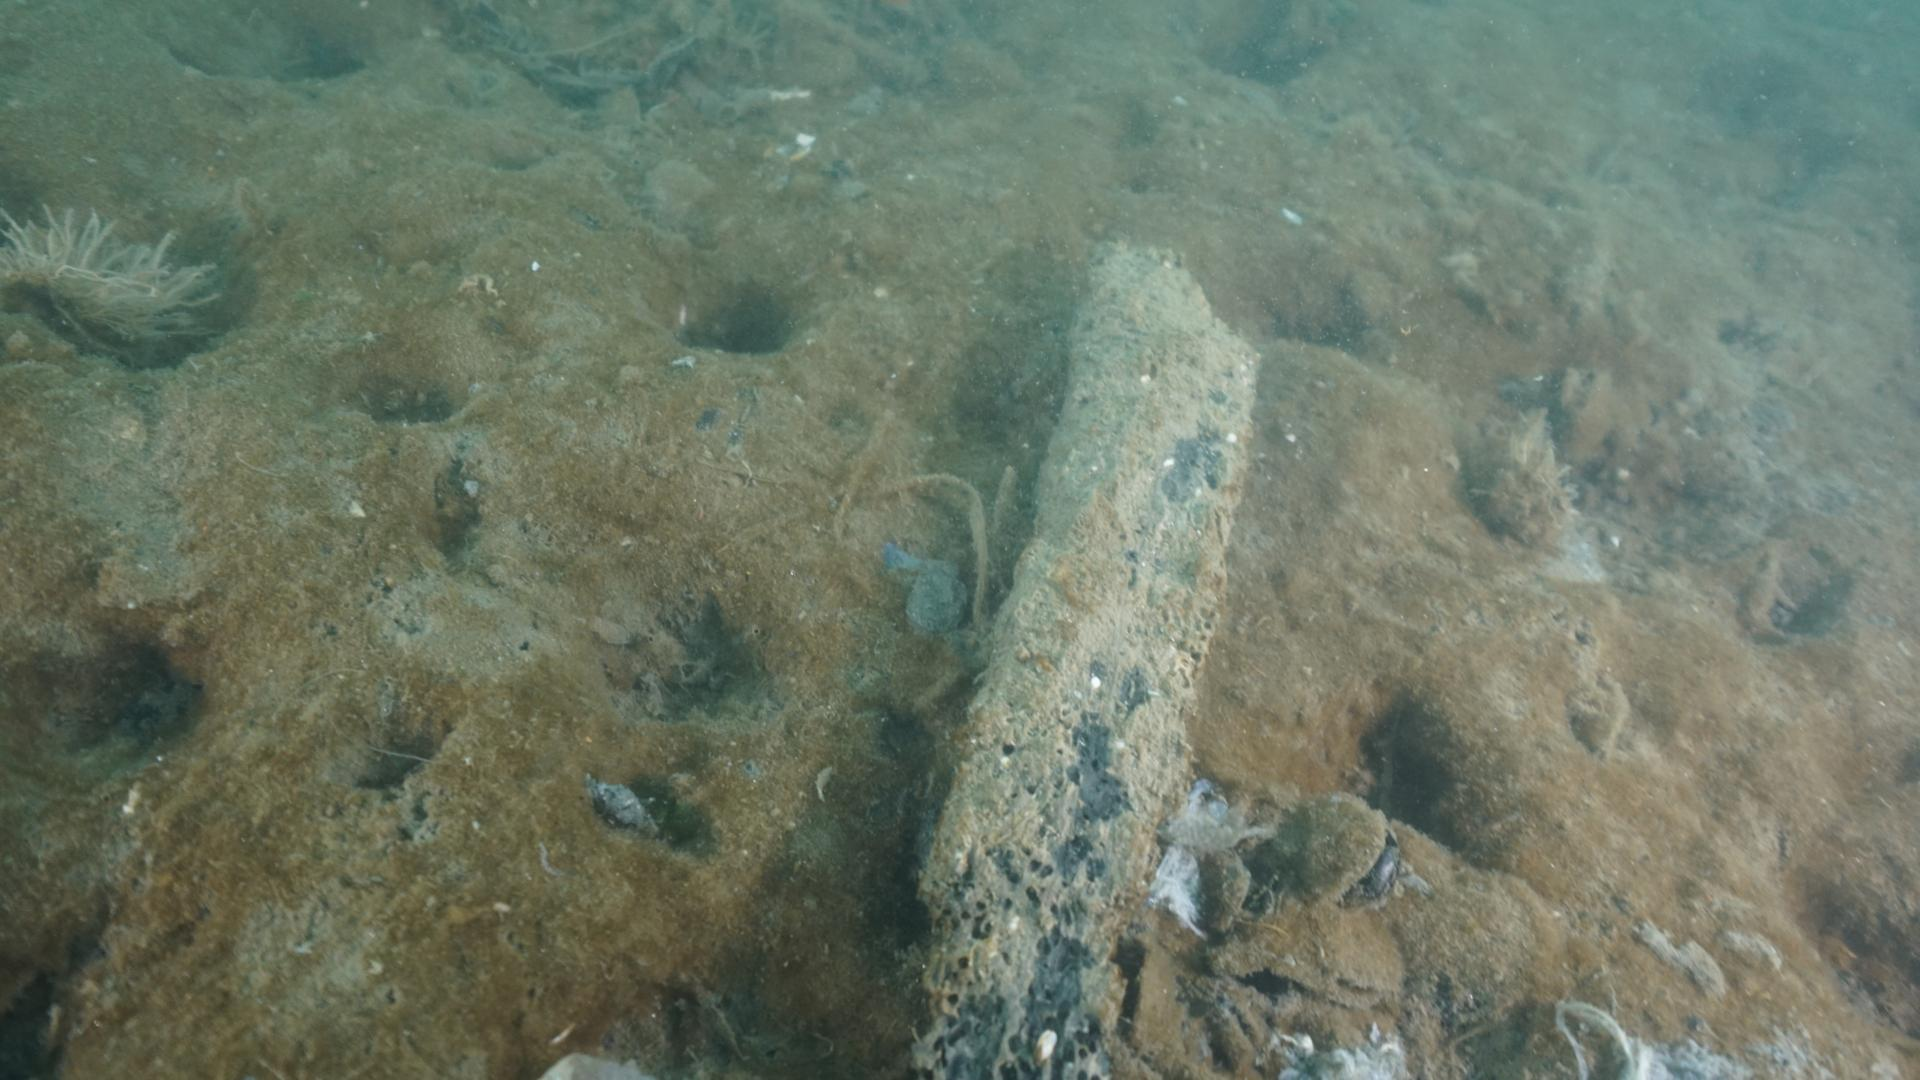wood: (910, 229, 1262, 1080)
